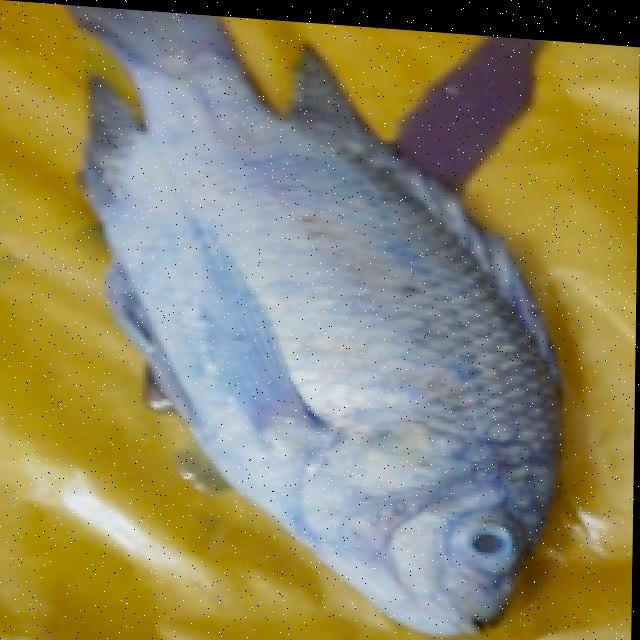Non-Fresh: (130, 129, 593, 640)
